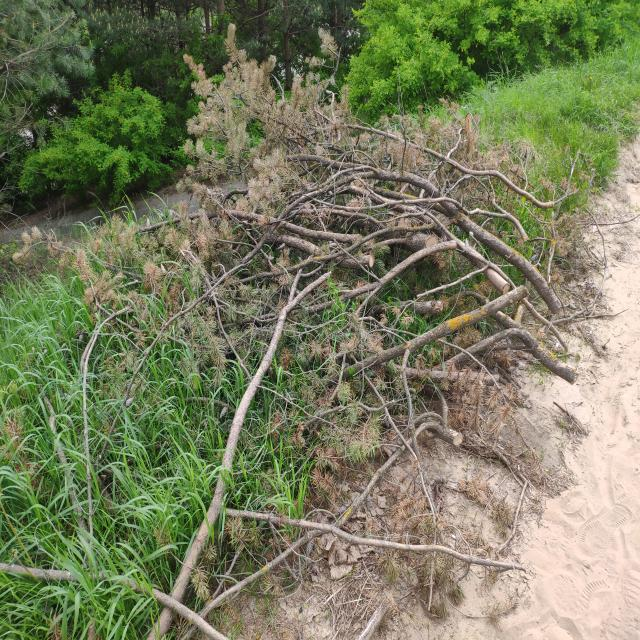restos de madeira: (162, 284, 294, 612), (266, 231, 445, 394), (218, 504, 401, 629), (436, 192, 562, 322), (95, 322, 165, 465), (41, 385, 89, 551), (427, 147, 552, 210), (226, 172, 330, 242), (284, 223, 410, 277), (333, 440, 407, 527), (489, 330, 578, 385), (8, 556, 136, 594), (532, 296, 630, 343), (150, 277, 218, 343), (149, 589, 233, 639), (205, 244, 272, 304), (330, 181, 422, 216), (574, 203, 609, 294), (502, 467, 532, 554), (420, 265, 490, 301), (61, 249, 140, 278), (262, 108, 320, 146), (136, 209, 208, 236), (289, 153, 365, 177), (228, 507, 300, 530), (493, 448, 533, 489), (333, 120, 390, 142), (442, 124, 464, 176), (577, 215, 640, 229), (103, 576, 151, 594), (545, 226, 556, 288)
